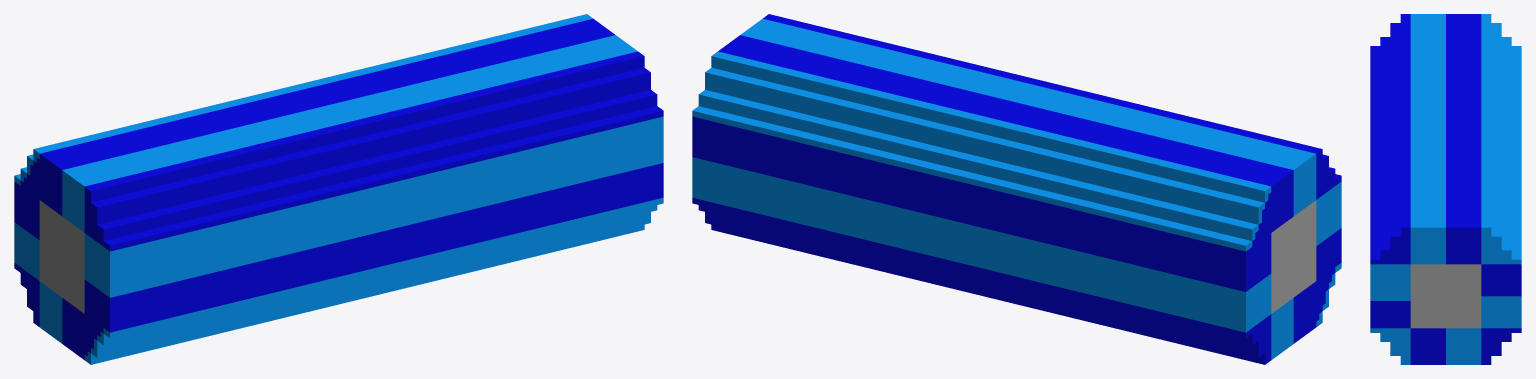
File: Tire.fbx
The picture shows the model from 3 angles, left to right: view 1: azimuth 30°, elevation 25°; view 2: azimuth 150°, elevation 25°; view 3: azimuth 270°, elevation 25°; orthographic projection. The views are drawn at different scales.
Visible parts, largest first — view 1: Tire:Mesh; view 2: Tire:Mesh; view 3: Tire:Mesh.
Boxes of the visible parts, x1=… form: Tire:Mesh: x1=14, y1=14, x2=663, y2=364; Tire:Mesh: x1=692, y1=14, x2=1341, y2=364; Tire:Mesh: x1=1370, y1=14, x2=1521, y2=364.
Bounding box in the file's own units: 10 × 3 × 3.
Materials: 1 (1 with a texture image).
